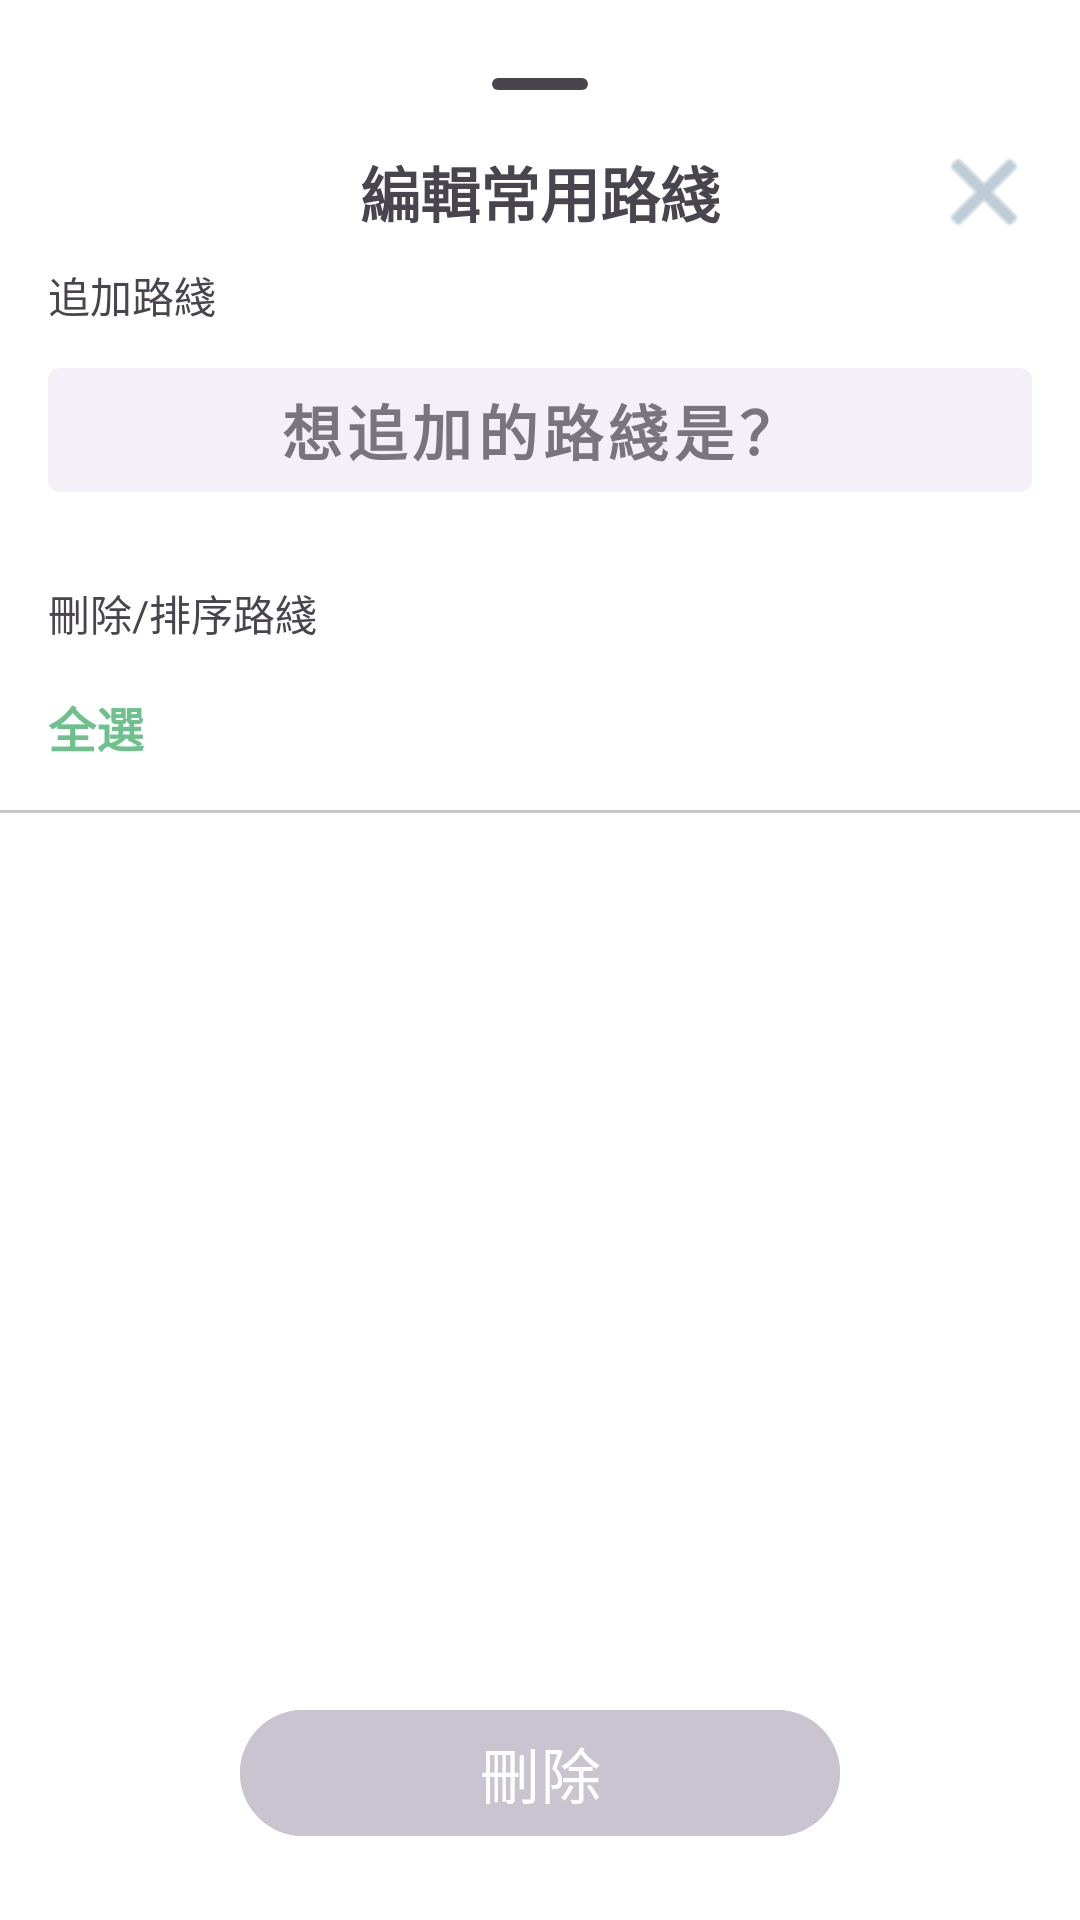

Screen size 1080px×1920px. Icon name, then its box in pixels as (left=x1, top=y1, right=x2, bottom=y2):
close clear cancel: (left=951, top=159, right=1017, bottom=225)
